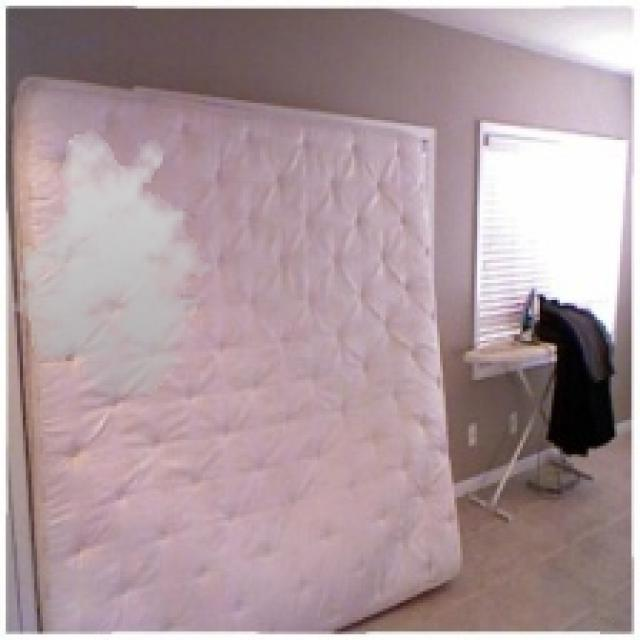Smoke: (6, 128, 223, 400)
